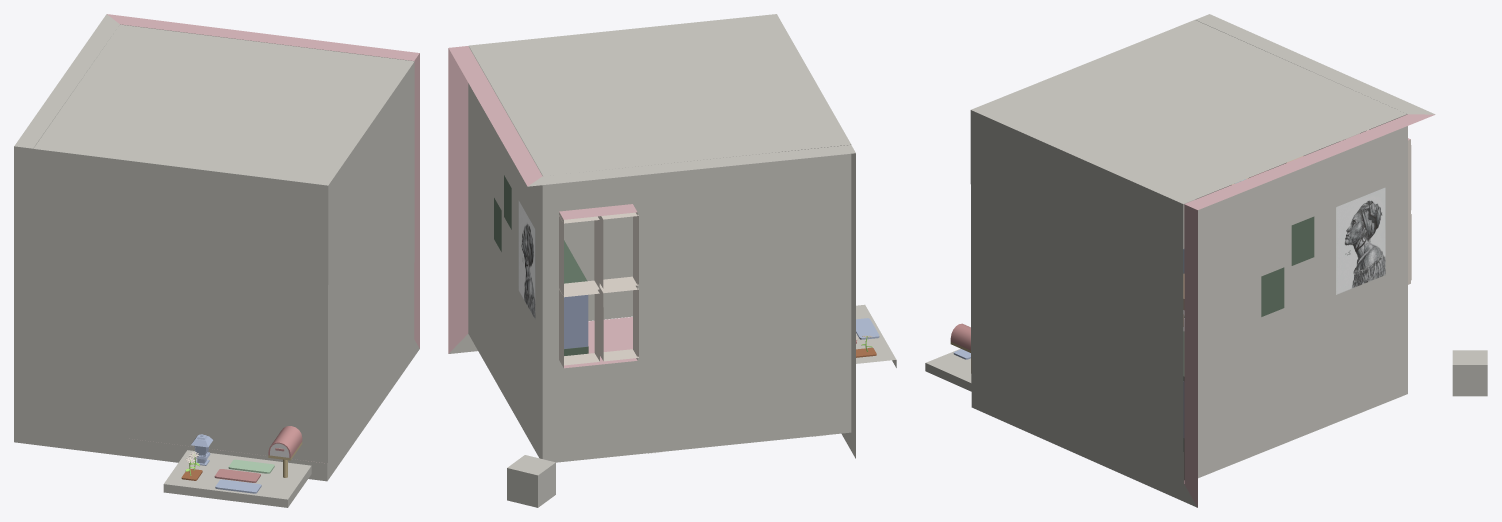
File: FinalRoomV5.glb
3 views of the same model, side by side, from view 1: azimuth 30°, elevation 25°; view 2: azimuth 150°, elevation 25°; view 3: azimuth 270°, elevation 25° (orthographic). The views are drawn at different scales.
Visible parts, largest first — view 1: Cube, Wall, Floor, Mailbox, Floor Pad.003, Floor Pad.001, Floor Pad.002; view 2: Wall, Cube, Paintings, Room Cube, Aquarium, Floor; view 3: Cube, Wall, Paintings, Room Cube, Floor.
Part boxes in pixels (x1=…): Cube: x1=33, y1=24, x2=414, y2=463; Wall: x1=14, y1=14, x2=419, y2=481; Floor: x1=163, y1=450, x2=311, y2=507; Mailbox: x1=268, y1=426, x2=302, y2=477; Floor Pad.003: x1=215, y1=479, x2=261, y2=493; Floor Pad.001: x1=228, y1=459, x2=274, y2=473; Floor Pad.002: x1=214, y1=469, x2=260, y2=482; Wall: x1=448, y1=46, x2=855, y2=462; Cube: x1=468, y1=14, x2=851, y2=320; Paintings: x1=494, y1=175, x2=535, y2=318; Room Cube: x1=507, y1=455, x2=555, y2=507; Aquarium: x1=564, y1=240, x2=588, y2=355; Floor: x1=856, y1=304, x2=896, y2=367; Cube: x1=970, y1=20, x2=1406, y2=483; Wall: x1=971, y1=14, x2=1435, y2=507; Paintings: x1=1261, y1=187, x2=1385, y2=316; Room Cube: x1=1452, y1=350, x2=1487, y2=396; Floor: x1=925, y1=348, x2=971, y2=391.
Bounding box in the file's own units: 34.77 × 24.6 × 42.09.
Materials: 50 (3 with a texture image).
